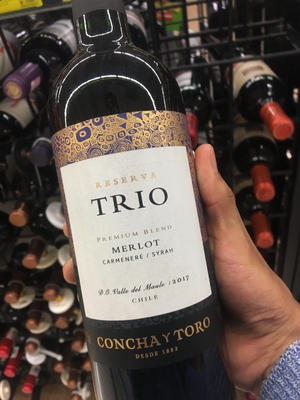trio merlot: (35, 25, 230, 400)
